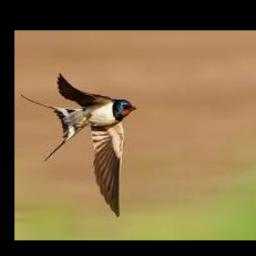Swallow: (21, 73, 137, 217)
